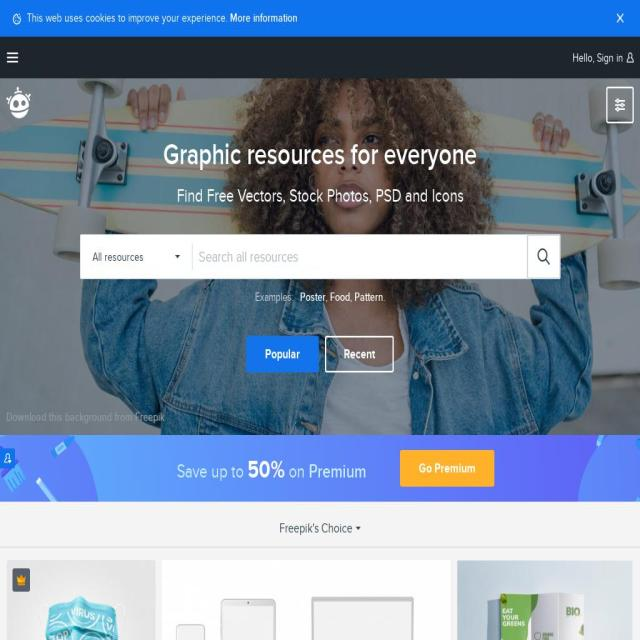button: (162, 560, 450, 640), (457, 560, 632, 640), (6, 560, 156, 640), (400, 450, 494, 487), (7, 408, 165, 427), (246, 336, 319, 372), (325, 336, 394, 372), (572, 48, 634, 68), (354, 288, 384, 306), (300, 288, 326, 306), (330, 288, 350, 306)
field: (193, 234, 526, 279), (280, 510, 352, 547)
heading: (80, 181, 560, 209), (309, 456, 366, 486), (177, 460, 247, 481), (247, 451, 285, 488), (285, 460, 309, 481)
image: (0, 262, 102, 640), (573, 262, 640, 640), (162, 560, 450, 640), (457, 560, 632, 640), (6, 560, 156, 640), (16, 574, 26, 586)
link: (230, 9, 298, 26)
text: (80, 136, 560, 172), (80, 234, 192, 279), (24, 9, 230, 26), (6, 408, 135, 425), (0, 452, 15, 581), (7, 37, 38, 78), (573, 49, 623, 66), (255, 288, 294, 306), (135, 408, 164, 425)
